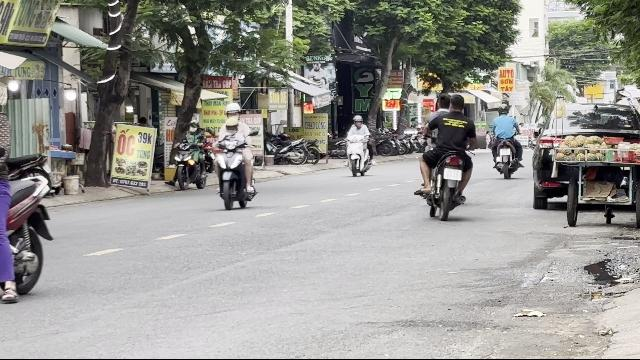helmet: (224, 116, 242, 138), (224, 102, 242, 122), (188, 120, 198, 132)
licenseplate: (443, 168, 462, 180)
motorcyclist: (415, 91, 477, 219), (210, 102, 258, 210), (168, 120, 212, 192)
nohelmet: (449, 93, 465, 112), (437, 92, 451, 110)
